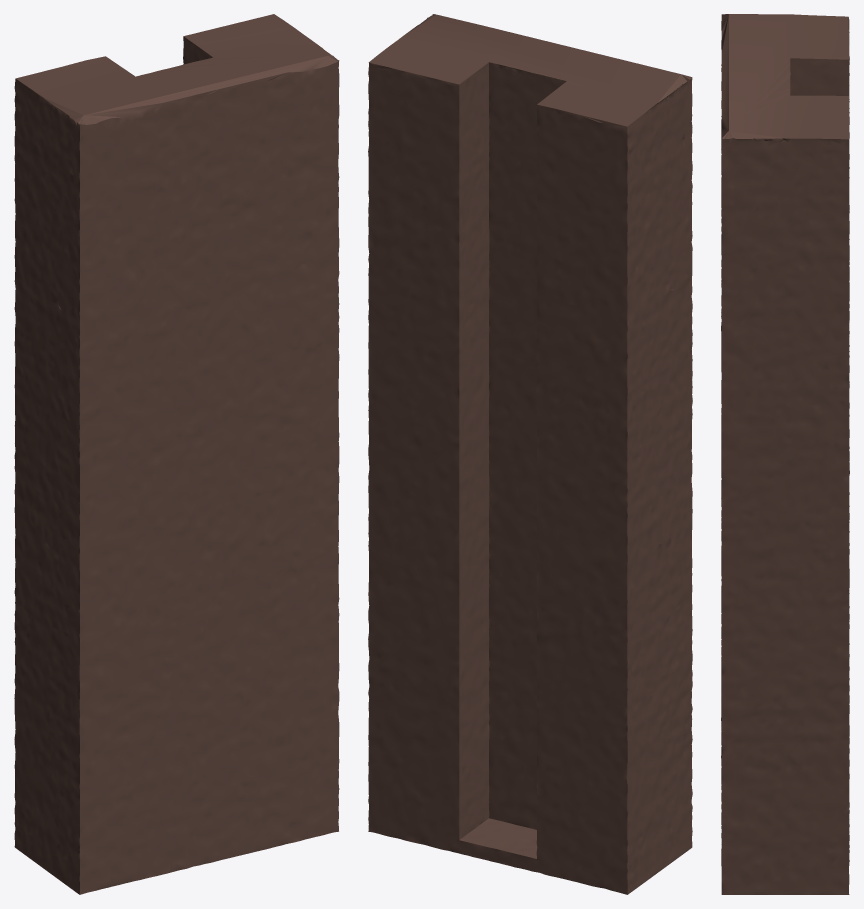
The model's file is Pit2.obj.
3 renders of one model, left to right at view 1: azimuth 30°, elevation 25°; view 2: azimuth 150°, elevation 25°; view 3: azimuth 270°, elevation 25°, orthographic.
Parts seen in each view (by area): view 1: Pit_Pit.001; view 2: Pit_Pit.001; view 3: Pit_Pit.001.
Boxes of the visible parts, x1,y1,x2,y2 form: Pit_Pit.001: [14, 14, 339, 894]; Pit_Pit.001: [368, 14, 692, 894]; Pit_Pit.001: [721, 14, 849, 894].
Bounding box in the file's own units: 20.1 × 57.19 × 8.79.
